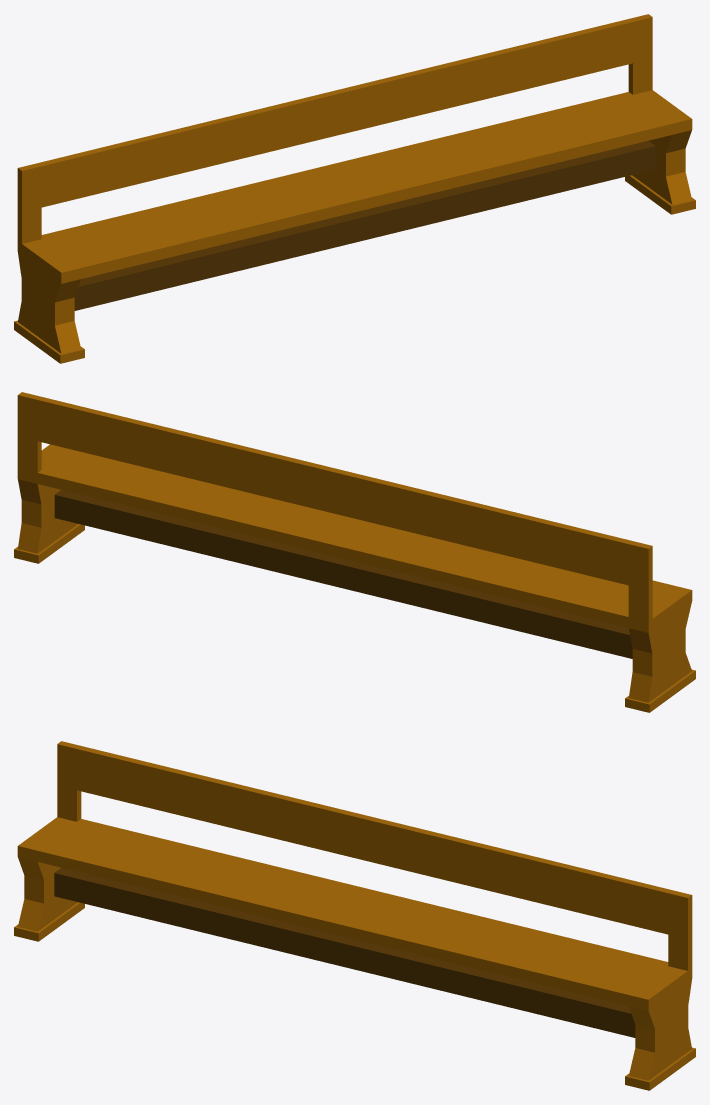
Rendered from BigBench_01.fbx.
3 views of the same model, one above another, from view 1: azimuth 30°, elevation 25°; view 2: azimuth 150°, elevation 25°; view 3: azimuth 330°, elevation 25° (orthographic).
Parts seen in each view (by area): view 1: BigBench_01; view 2: BigBench_01; view 3: BigBench_01.
Boxes of the visible parts, left/top/right/bottom form: BigBench_01: left=14, top=14, right=695, bottom=363; BigBench_01: left=14, top=392, right=695, bottom=712; BigBench_01: left=14, top=741, right=695, bottom=1090.
Bounding box in the file's own units: 430 × 105 × 54.42.
